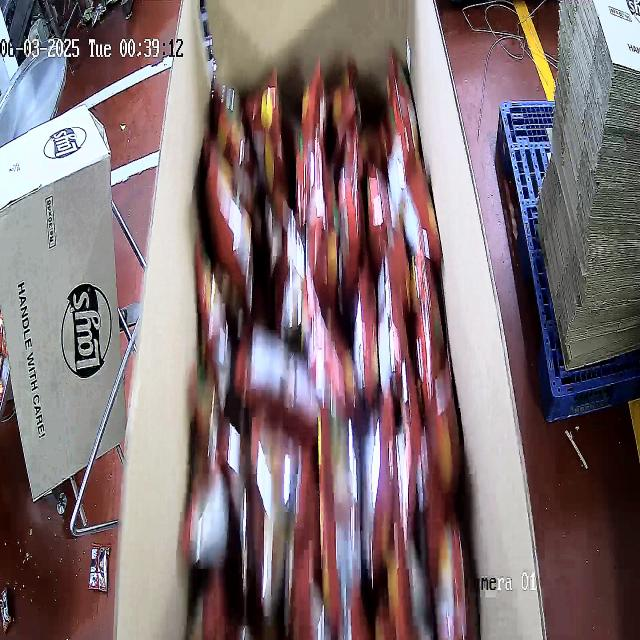MASALA: (187, 46, 471, 638)
